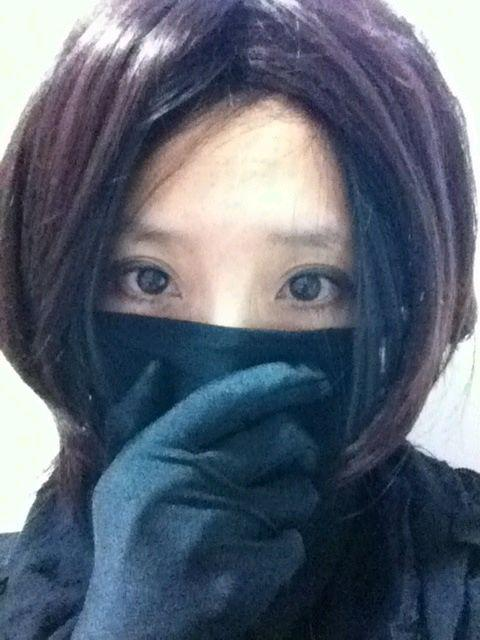OK: (83, 196, 395, 508)
